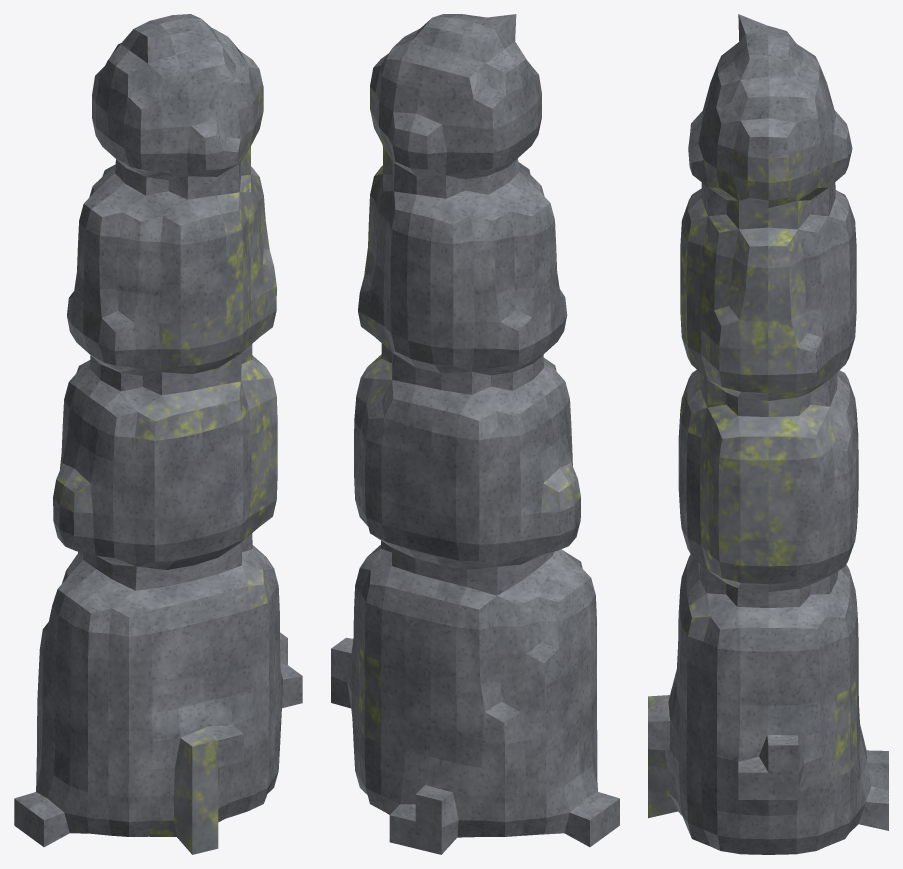
The model's file is landmark_waystone.glb.
The picture shows the model from 3 angles, left to right: view 1: azimuth 30°, elevation 25°; view 2: azimuth 150°, elevation 25°; view 3: azimuth 270°, elevation 25°; orthographic projection.
Parts seen in each view (by area): view 1: wilds_landmark_waystone; view 2: wilds_landmark_waystone; view 3: wilds_landmark_waystone.
Boxes of the visible parts, x1,y1,x2,y2 form: wilds_landmark_waystone: (14,14,302,854); wilds_landmark_waystone: (331,14,619,854); wilds_landmark_waystone: (648,14,888,854).
Size of the model in its own units: 0.625 by 1.81 by 0.5.
Materials: 1 (1 with a texture image).
